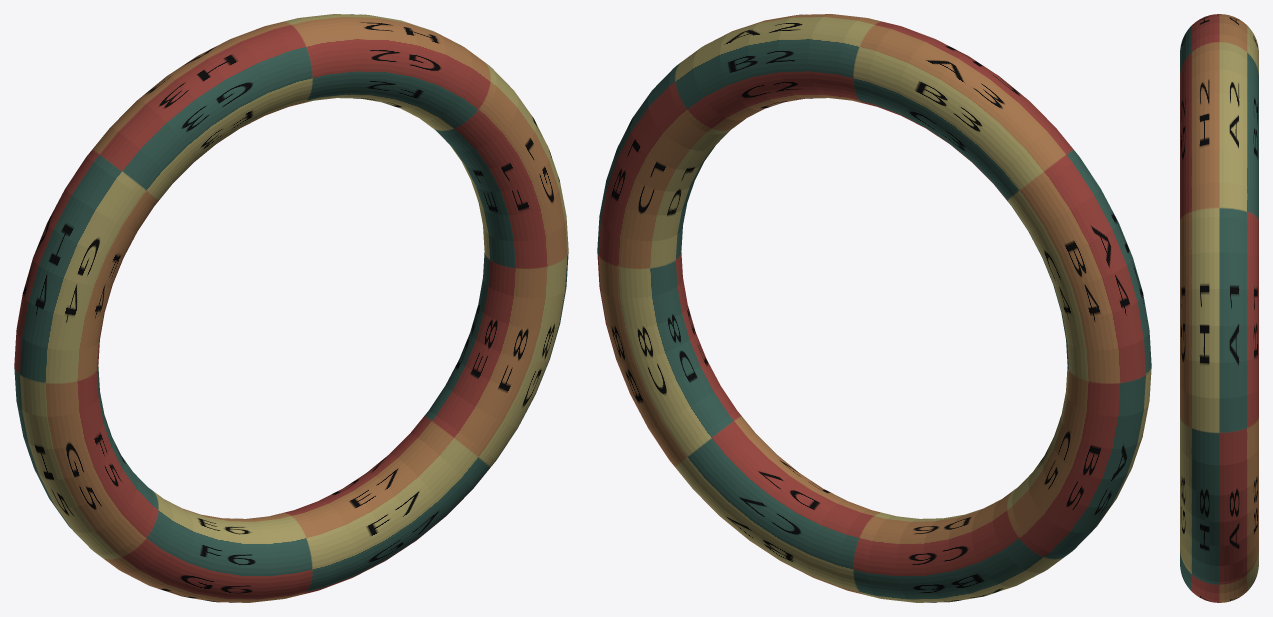
Rendered from texture_torus_R25_r8.glb.
3 renders of one model, left to right at view 1: azimuth 30°, elevation 25°; view 2: azimuth 150°, elevation 25°; view 3: azimuth 270°, elevation 25°, orthographic. The views are drawn at different scales.
Visible parts, largest first — view 1: world; view 2: world; view 3: world.
Part boxes in pixels (x1,y1,x2,y2): world: (14, 14, 568, 602); world: (597, 14, 1151, 602); world: (1180, 14, 1258, 602).
Bounding box in the file's own units: 30.8 × 30.74 × 4.13.
1 material, 1 textured.
